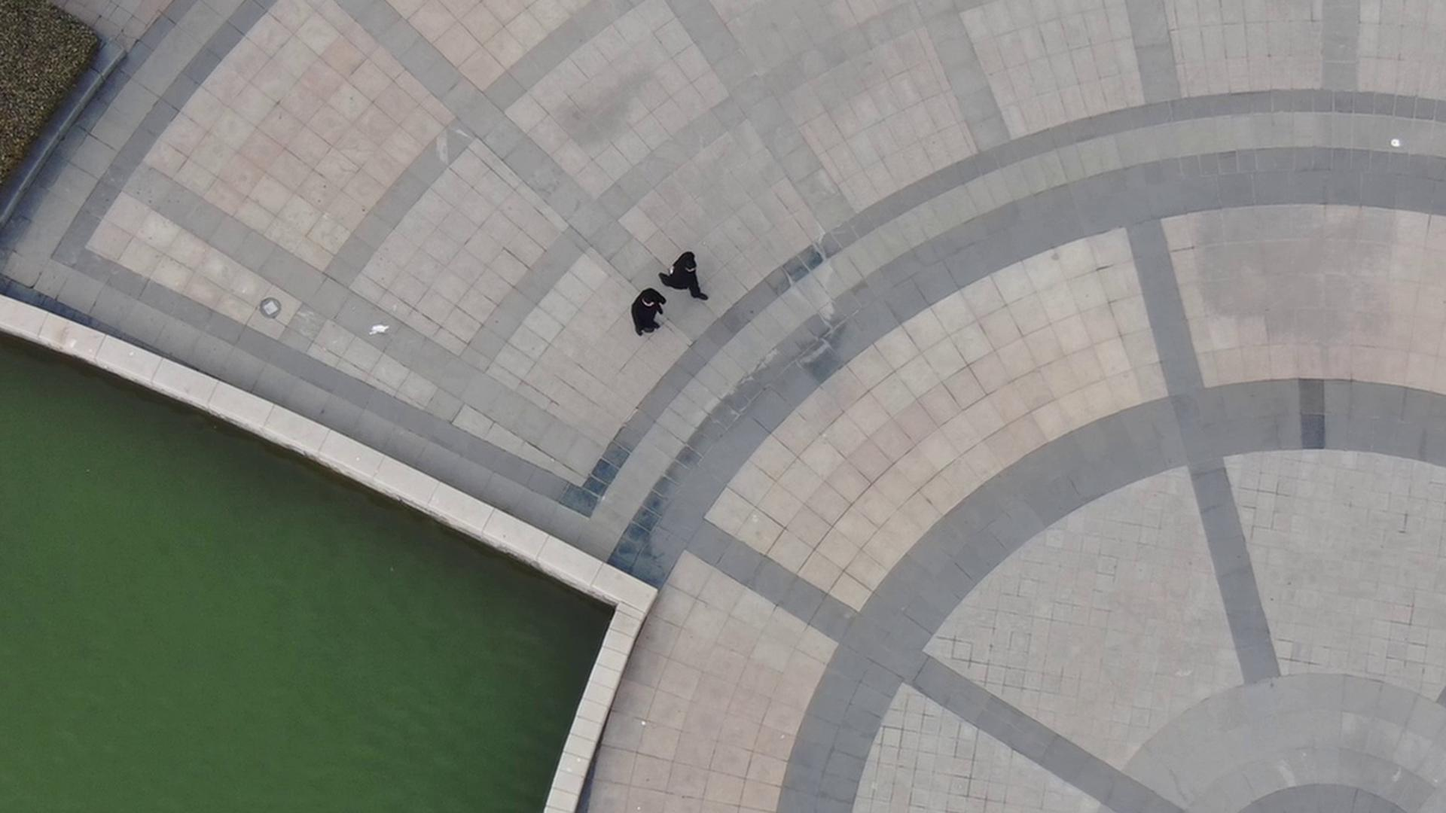human: (614, 263, 672, 324), (660, 237, 707, 294)
